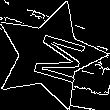M_W: (17, 26, 82, 85)
